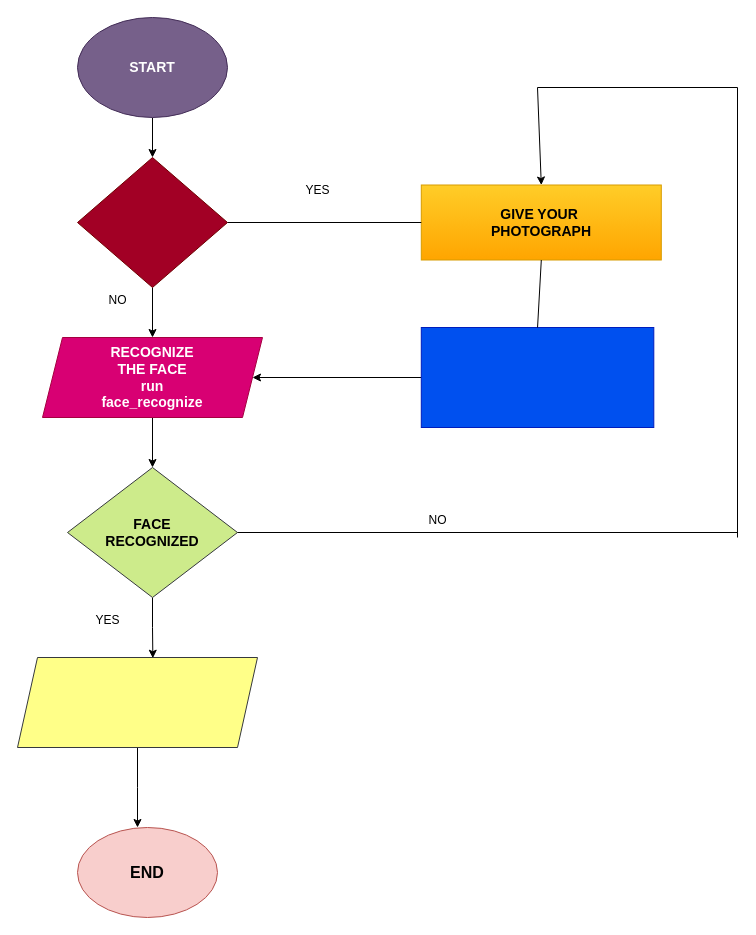
Image size: 756x935. Some labels were removed from this diagram. The shapes that lost their labels are listed below. From the top down, each one's centre as x and y in pixels, then its label:
At (x=152, y=222): "NEW USER? FOR Create_dataset".
At (x=537, y=377): "STORE THE FACE DATA IN FOLDER ON YOUR NAME".
At (x=137, y=702): "STORED IN CSV FILE WITH REGISTRATION NUMBER& DATE -TIME OF ENTRY".
